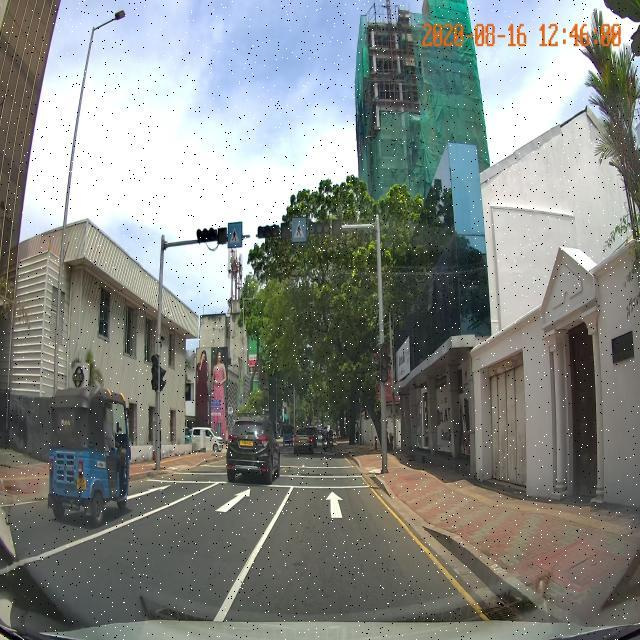forward: (269, 488, 399, 522)
